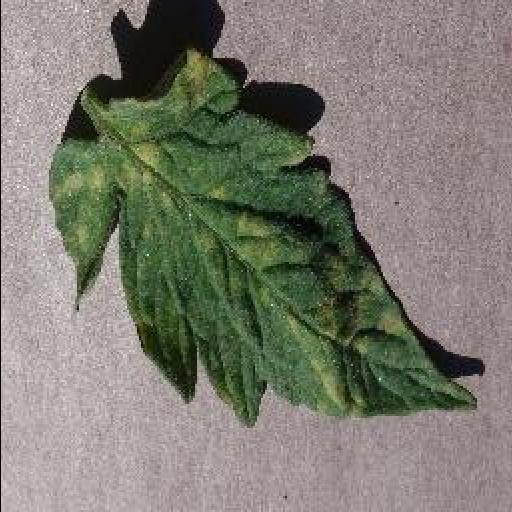disease_tomato: (44, 48, 478, 426)
